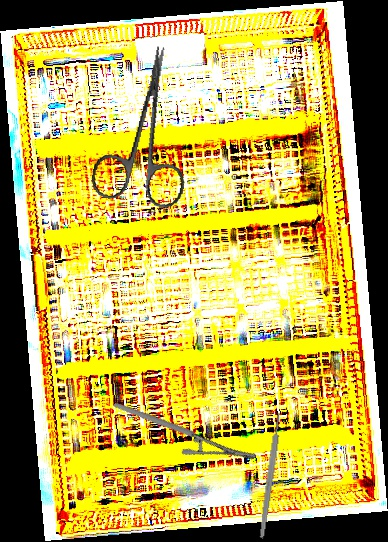Iris Scissors: (88, 37, 210, 213)
Needle Holder: (112, 363, 258, 498)
Scalpel Handle: (258, 412, 283, 539)
